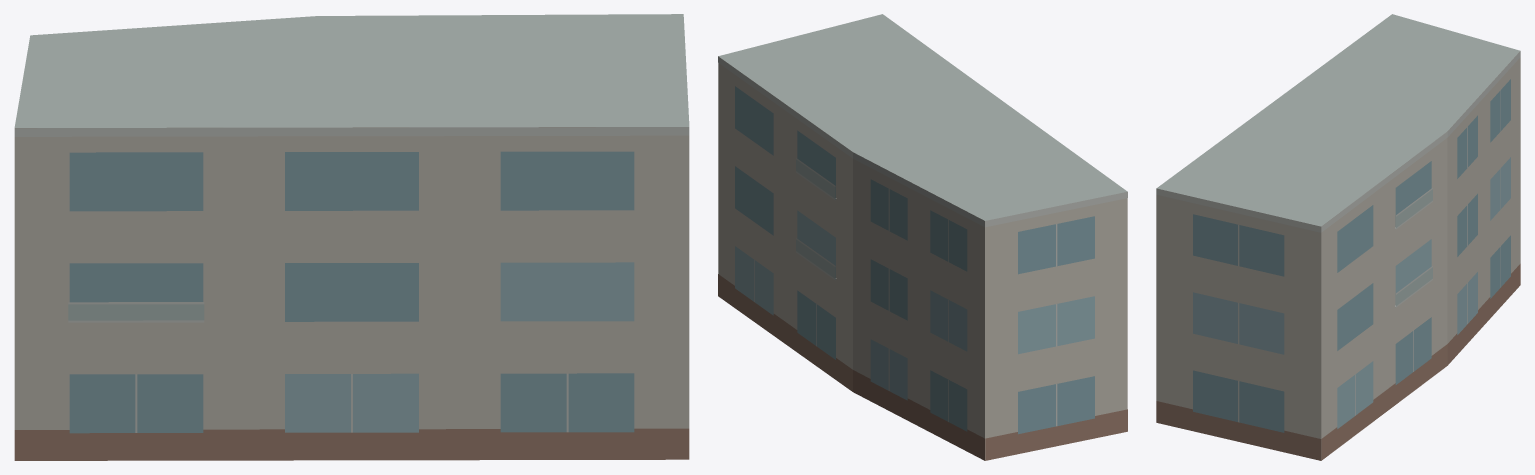
The model's file is survey-upis-32639970.glb.
3 views of the same model, side by side, from view 1: azimuth 30°, elevation 25°; view 2: azimuth 150°, elevation 25°; view 3: azimuth 270°, elevation 25° (orthographic). The views are drawn at different scales.
Parts seen in each view (by area): view 1: survey-upis-32639970.tmp; view 2: survey-upis-32639970.tmp; view 3: survey-upis-32639970.tmp.
Boxes of the visible parts, x1,y1,x2,y2 form: survey-upis-32639970.tmp: (14, 14, 689, 460); survey-upis-32639970.tmp: (718, 14, 1127, 460); survey-upis-32639970.tmp: (1156, 14, 1520, 460).
Bounding box in the file's own units: 17.81 × 9.15 × 12.9.
